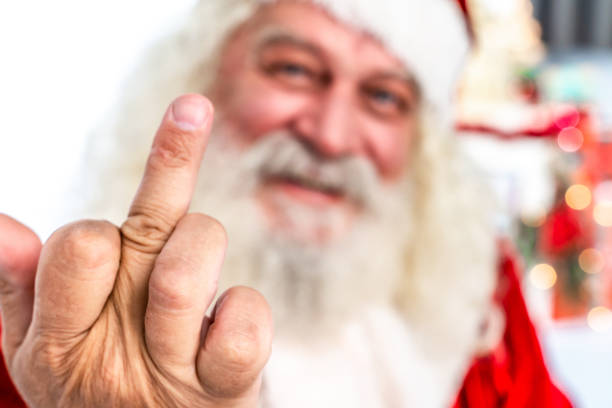insulting_gesture: (0, 90, 274, 408)
